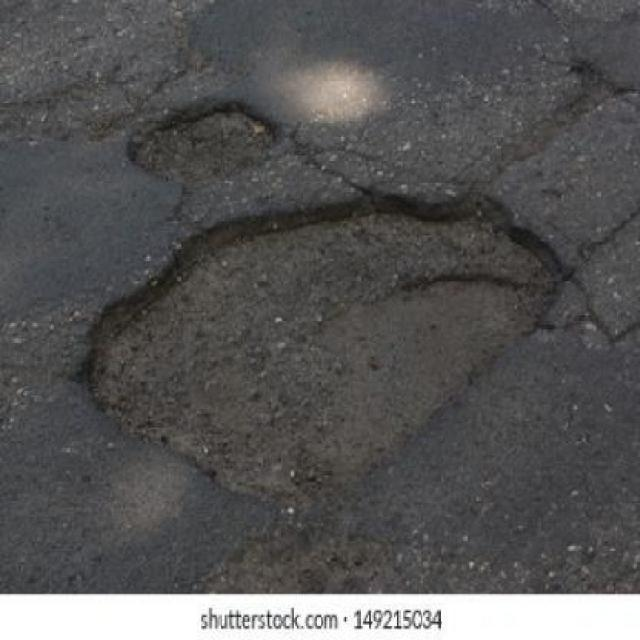Buraco: (62, 180, 584, 519), (122, 96, 286, 190)
